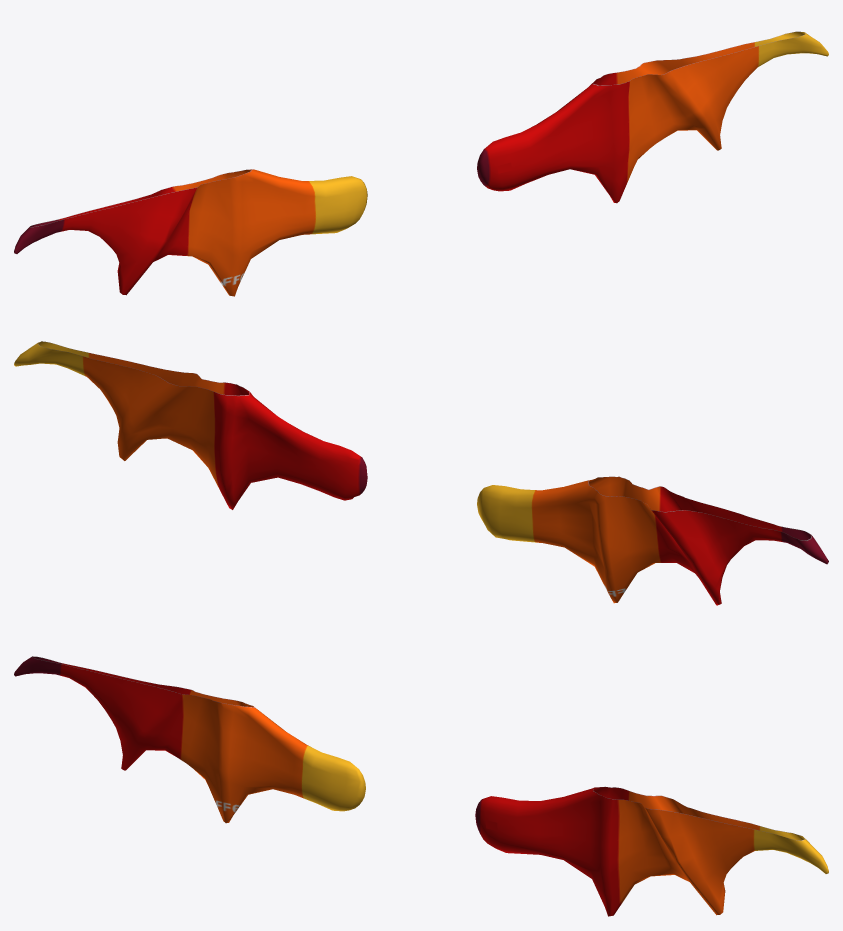
Rendered from wings2.fbx.
3 renders of one model, top to bottom at view 1: azimuth 30°, elevation 25°; view 2: azimuth 150°, elevation 25°; view 3: azimuth 330°, elevation 25°, orthographic.
Parts seen in each view (by area): view 1: wing2_left1; view 2: wing2_left1; view 3: wing2_left1.
Part boxes in pixels (bbox=[...]): wing2_left1: bbox=[14, 31, 828, 296]; wing2_left1: bbox=[14, 341, 828, 605]; wing2_left1: bbox=[14, 656, 828, 916].
Size of the model in its own units: 6.67 by 1.24 by 0.2816.
